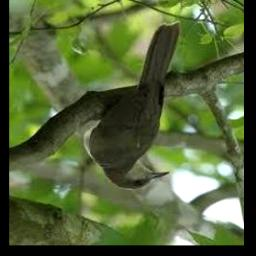Cuckoo: (83, 22, 180, 190)
